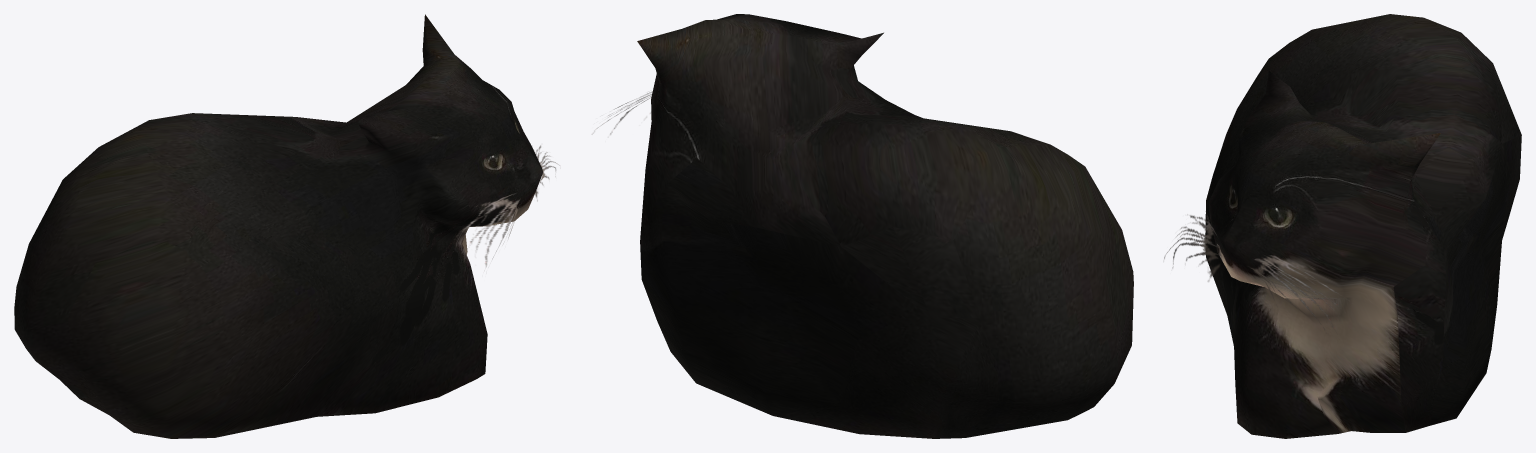
File: cat.glb
The picture shows the model from 3 angles, left to right: view 1: azimuth 30°, elevation 25°; view 2: azimuth 150°, elevation 25°; view 3: azimuth 270°, elevation 25°; orthographic projection. The views are drawn at different scales.
Visible parts, largest first — view 1: dingus; view 2: dingus; view 3: dingus.
Boxes of the visible parts, x1,y1,x2,y2 form: dingus: [14, 14, 559, 438]; dingus: [593, 14, 1133, 438]; dingus: [1164, 14, 1521, 438].
Size of the model in its own units: 33.23 by 19.21 by 18.75.
2 materials, 2 textured.
